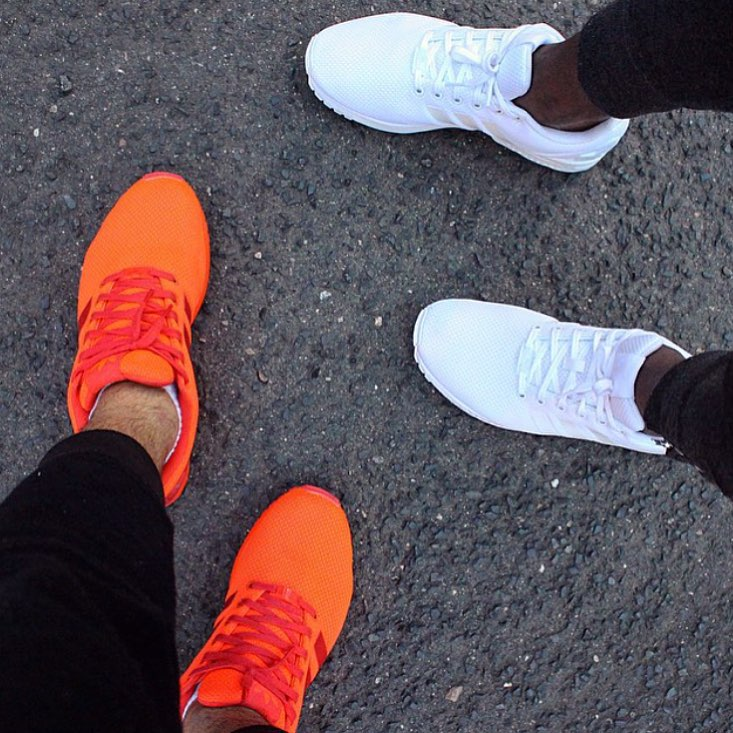sneaker: (46, 145, 237, 532), (388, 278, 721, 491), (286, 1, 654, 191), (163, 471, 396, 733)
